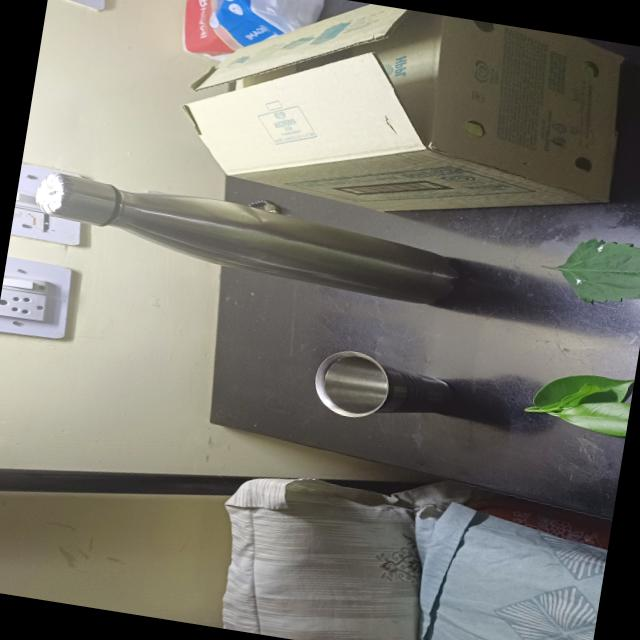CardBoard-Bio: (179, 0, 636, 251)
Leaf-Bio: (514, 362, 634, 438), (535, 228, 640, 311)
Steel-NonBio: (27, 168, 462, 308), (304, 344, 461, 432)
